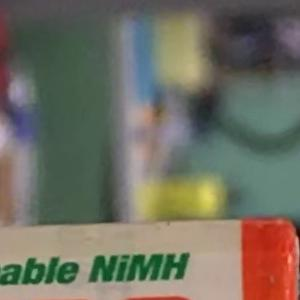keyword: (79, 243, 200, 292)
